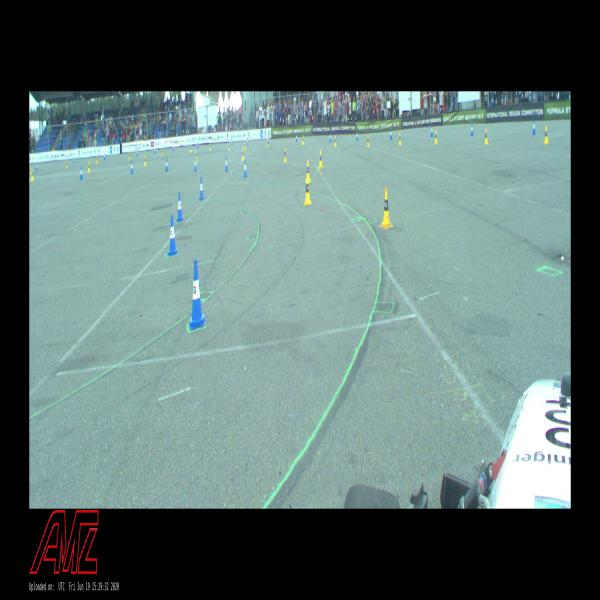blue_cone: (189, 260, 206, 328), (167, 215, 178, 256), (176, 192, 184, 222), (198, 177, 205, 201), (243, 159, 248, 178), (193, 157, 198, 172), (532, 120, 536, 136), (224, 157, 228, 172), (130, 161, 134, 175), (430, 125, 434, 137), (165, 157, 168, 172), (80, 166, 83, 181), (470, 123, 473, 137), (103, 152, 106, 160), (356, 131, 358, 142), (390, 129, 392, 138), (329, 133, 331, 142), (36, 162, 38, 171), (296, 133, 298, 141), (136, 148, 138, 156), (247, 137, 249, 145), (154, 147, 156, 154), (173, 144, 174, 152), (74, 157, 75, 164), (197, 142, 198, 148)
yellow_cone: (380, 187, 391, 228), (304, 176, 311, 206), (305, 159, 311, 183), (543, 125, 549, 145), (318, 150, 323, 169), (484, 128, 489, 145), (283, 146, 287, 162), (434, 130, 438, 144), (398, 132, 402, 146), (87, 160, 91, 174), (31, 169, 34, 182), (366, 135, 369, 147), (144, 155, 147, 167), (209, 142, 212, 152), (334, 136, 337, 146), (195, 149, 197, 162), (242, 148, 244, 160), (161, 148, 163, 157), (228, 142, 230, 151), (302, 135, 304, 144), (267, 137, 269, 146), (96, 156, 98, 164), (244, 141, 246, 149), (190, 144, 192, 152), (66, 160, 68, 168), (129, 153, 130, 159)
